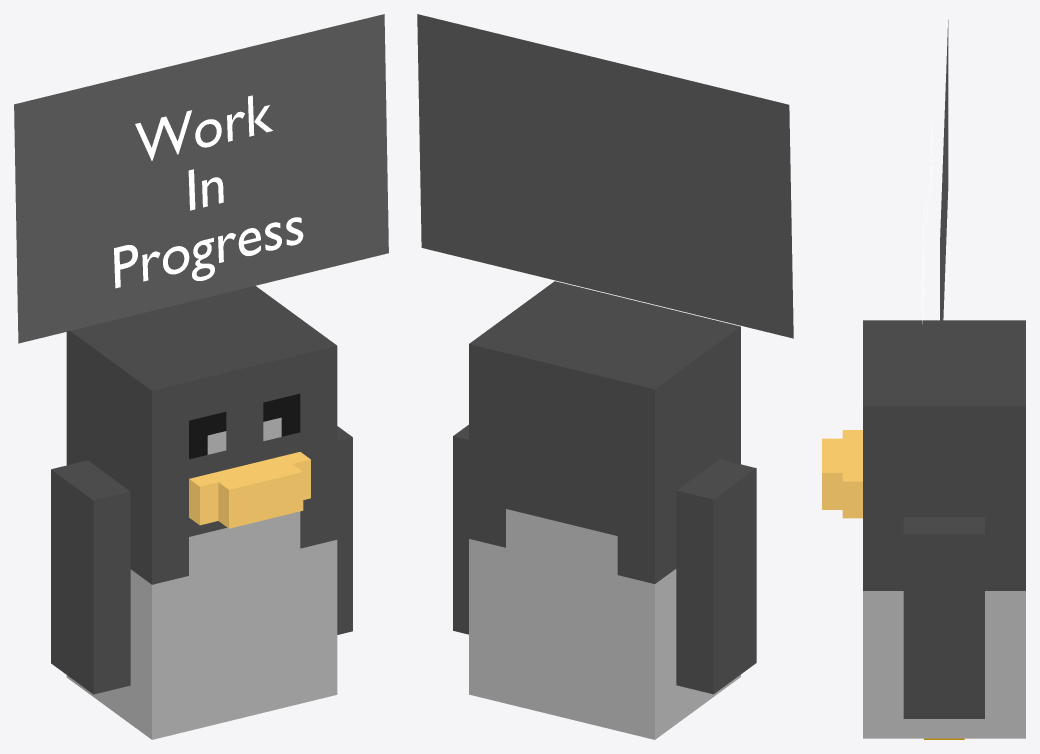
File: penguin-voxel.glb
3 renders of one model, left to right at view 1: azimuth 30°, elevation 25°; view 2: azimuth 150°, elevation 25°; view 3: azimuth 270°, elevation 25°, orthographic. The views are drawn at different scales.
Visible parts, largest first — view 1: Penguin, Plane, Text; view 2: Penguin, Plane; view 3: Penguin, Plane.
Boxes of the visible parts, left/top/right/bottom form: Penguin: left=51, top=286, right=352, bottom=739; Plane: left=14, top=14, right=388, bottom=343; Text: left=114, top=95, right=303, bottom=288; Penguin: left=453, top=281, right=756, bottom=739; Plane: left=417, top=14, right=793, bottom=338; Penguin: left=822, top=320, right=1025, bottom=739; Plane: left=940, top=19, right=948, bottom=408.
Size of the model in its own units: 2 by 3.33 by 1.
3 materials, 1 textured.
